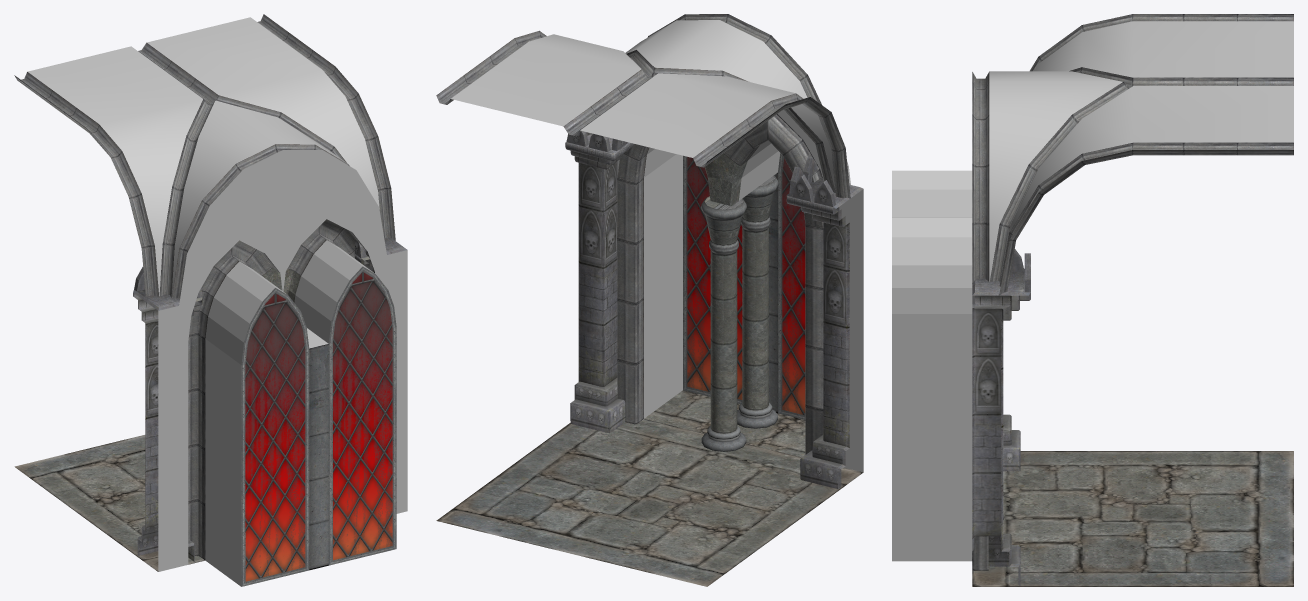
The model's file is Wall_Window3.FBX.
The picture shows the model from 3 angles, left to right: view 1: azimuth 30°, elevation 25°; view 2: azimuth 150°, elevation 25°; view 3: azimuth 270°, elevation 25°; orthographic projection. The views are drawn at different scales.
Visible parts, largest first — view 1: WallWindow_3; view 2: WallWindow_3; view 3: WallWindow_3.
Part boxes in pixels (x1,y1,x2,y2): WallWindow_3: (14,14,407,586); WallWindow_3: (436,14,863,586); WallWindow_3: (892,14,1293,586).
Size of the model in its own units: 500 by 750 by 625.
